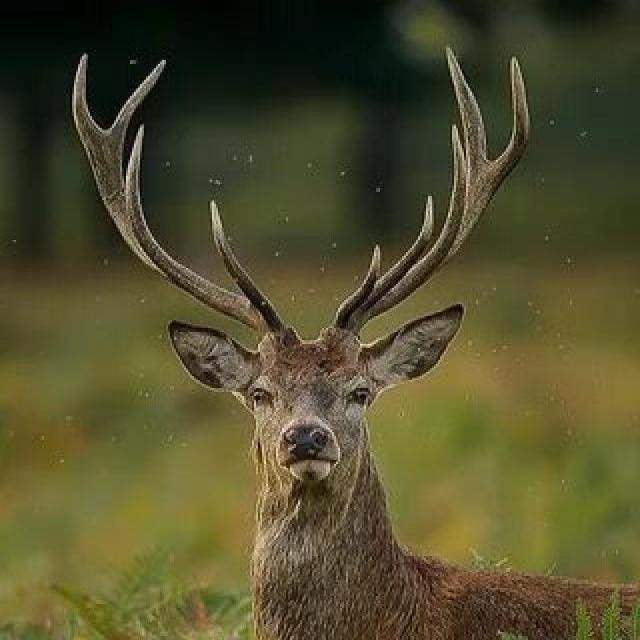deer: (30, 46, 640, 640)
